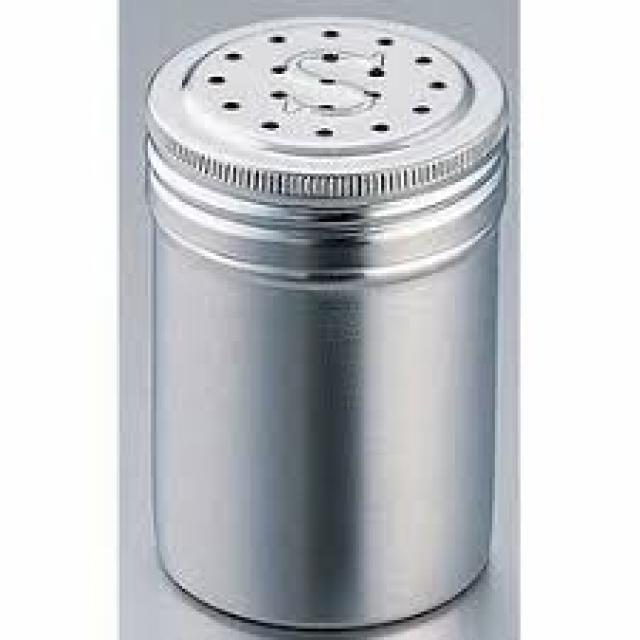recyclable: (146, 15, 509, 634)
